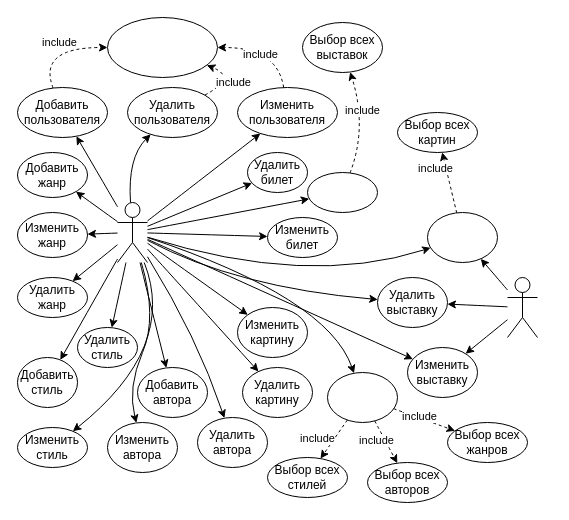
Image size: 569x520. Some labels were removed from this diagram. Each missing label, with the centre of its shape:
Администратор: (132,232)
Добавить билет: (342,192)
Добавить выставку: (462,237)
Добавить картину: (362,397)
Менеджер: (522,307)
Управление правами доступа: (162,47)
